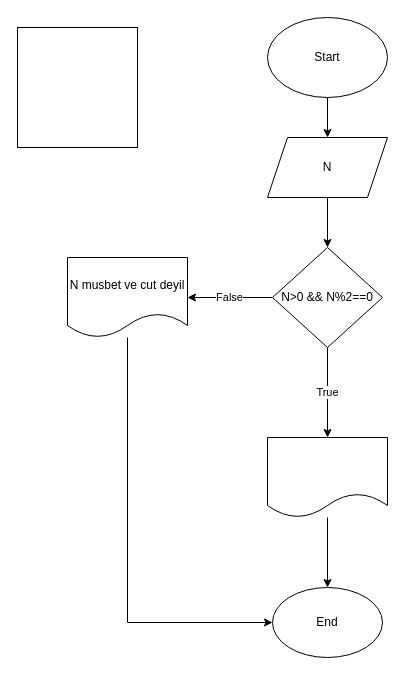
Image size: 405x675. Some labels were removed from this diagram. Each missing label, with the centre of its shape:
N musbet ve cut ededdir: the point at 327,477
Verilmis N ededinin musbet ve cut olub olmamasini tapan alqoritm: the point at 77,87
